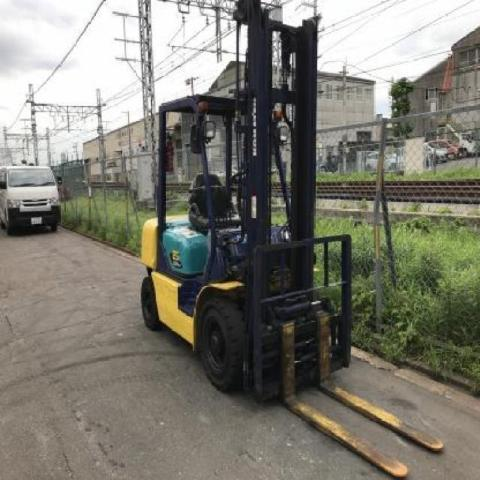van: (0, 165, 61, 235)
